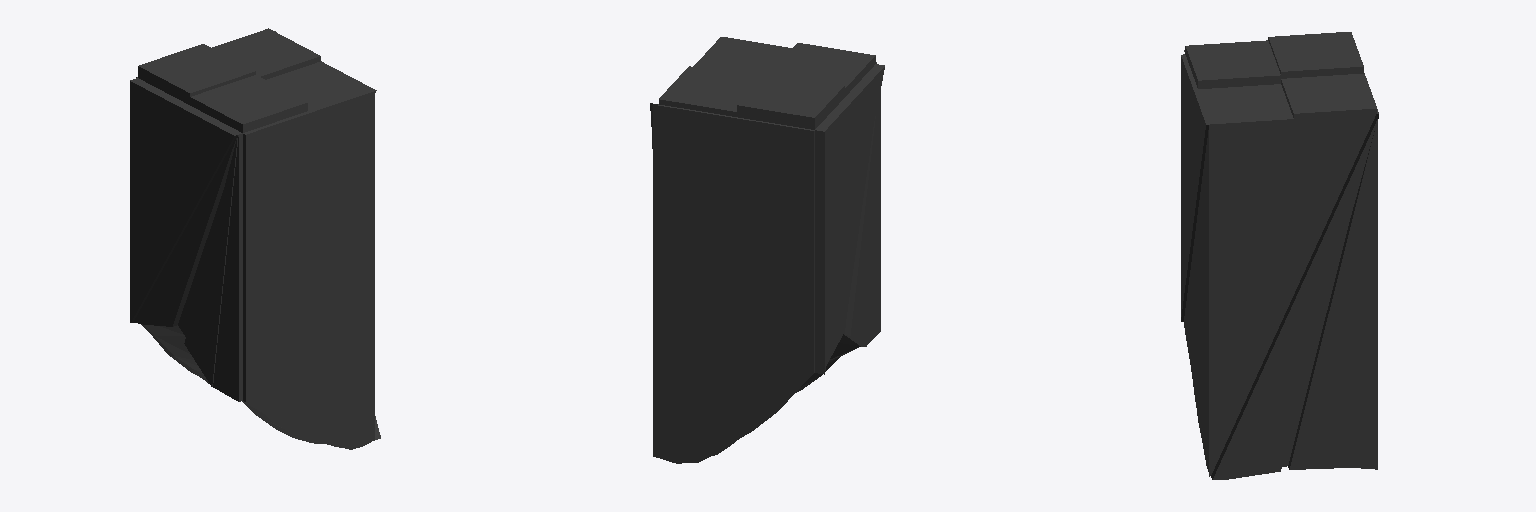
File: pillar_1.obj
The picture shows the model from 3 angles: view 1: azimuth 30°, elevation 25°; view 2: azimuth 150°, elevation 25°; view 3: azimuth 270°, elevation 25°; orthographic projection.
Parts seen in each view (by area): view 1: Cube.010_Cube.012; view 2: Cube.010_Cube.012; view 3: Cube.010_Cube.012.
Boxes of the visible parts, <box> form: Cube.010_Cube.012: <box>130,28,380,449</box>; Cube.010_Cube.012: <box>650,37,884,463</box>; Cube.010_Cube.012: <box>1181,32,1378,479</box>.
Size of the model in its own units: 1.66 by 3.19 by 1.56.